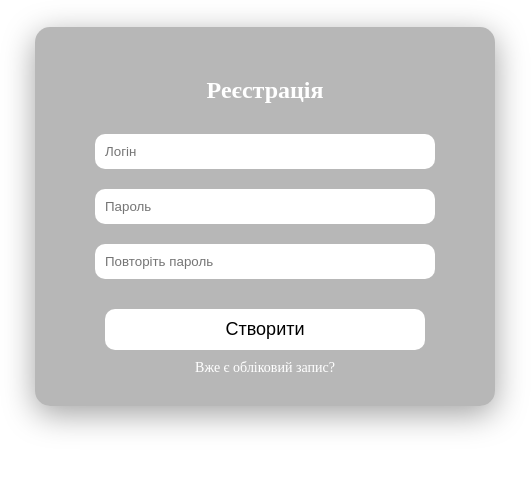
Scenario: RegistrationBox › відображає помилку, якщо паролі не співпадають
This screenshot has width=531, height=500.
Type "password1" into the password field with placeholder "Пароль" at (265, 206), box [95,189,435,224]
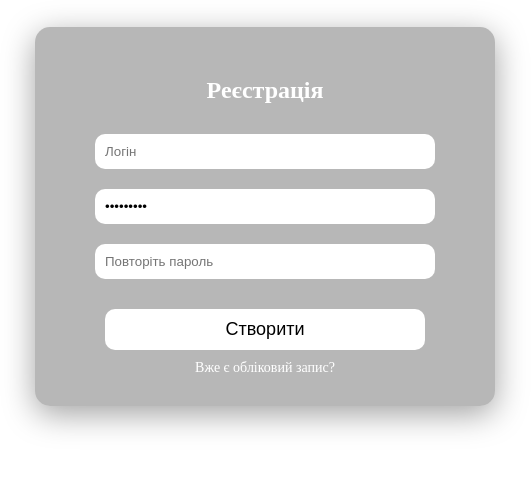
Type "password2" into the password field with placeholder "Повторіть пароль" at (265, 261), box [95,244,435,279]
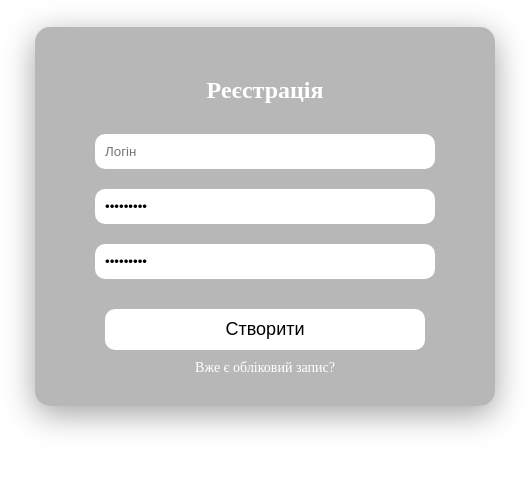
Click the button "Створити" at (265, 329), box [105,309,425,350]
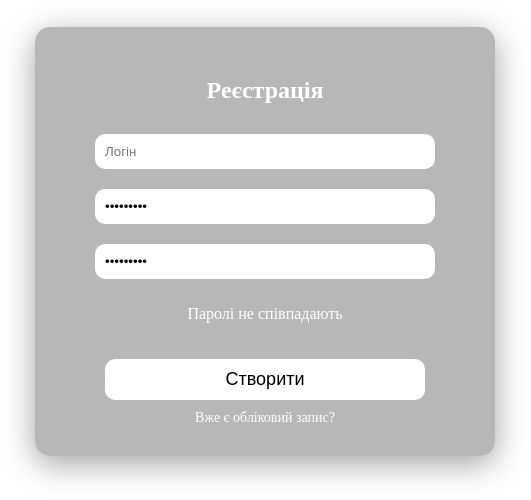
Expected: the text "Паролі не співпадають" is shown, [187,305,342,322]
